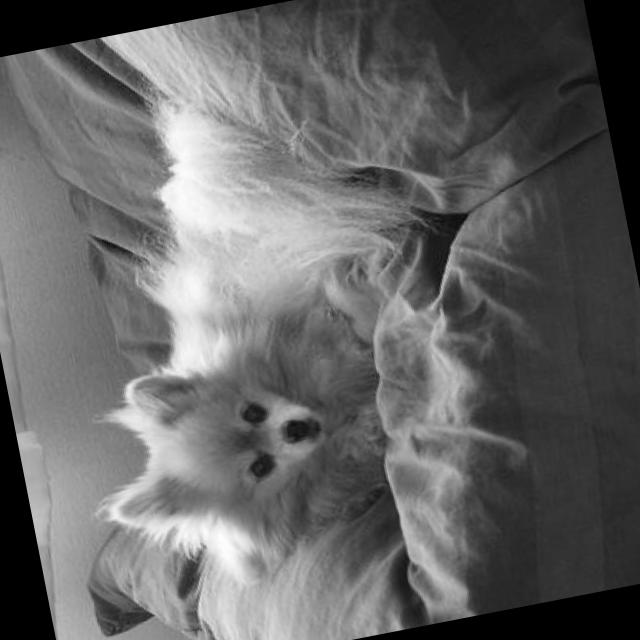laying down: (18, 47, 484, 618)
